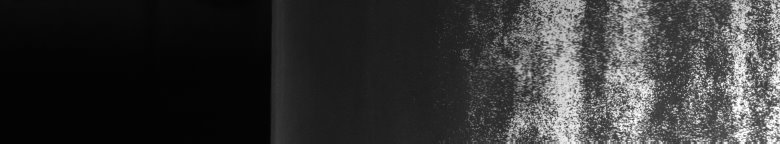kb: (480, 4, 776, 136)
